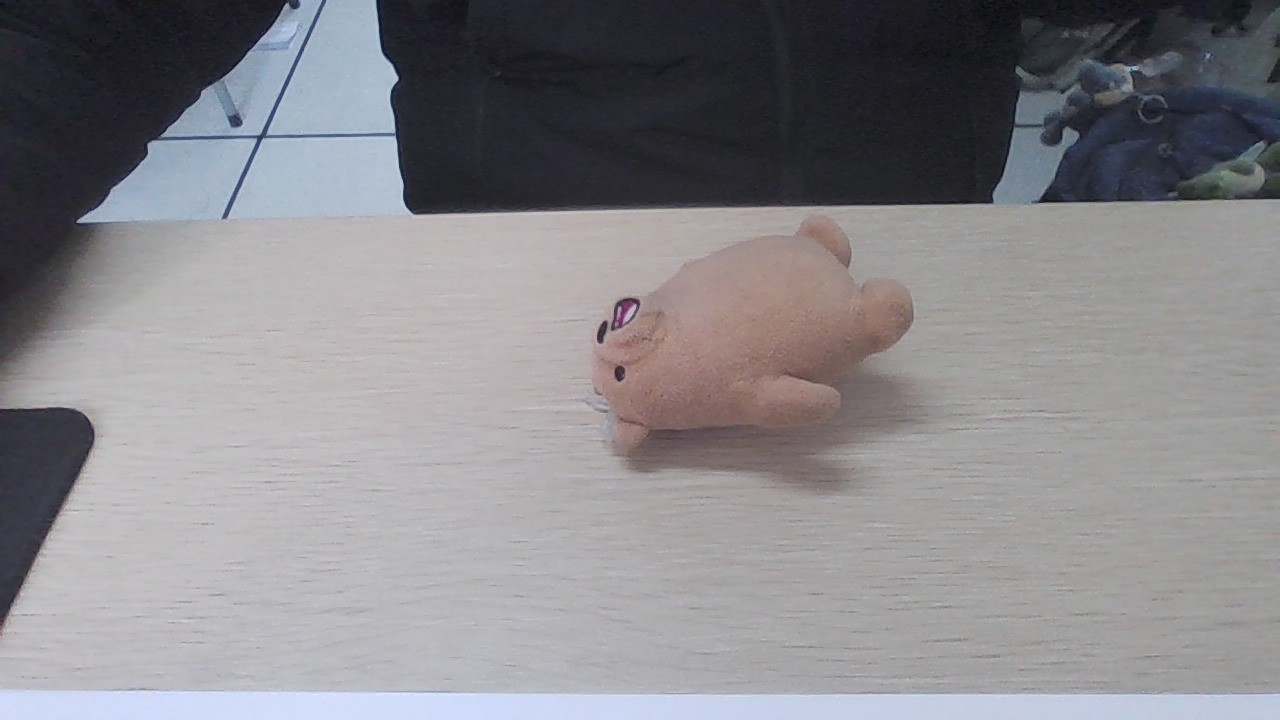KHS-doll: (582, 215, 915, 451)
